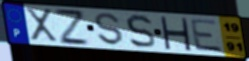E: (189, 18, 226, 54)
H: (158, 15, 193, 52)
S: (124, 14, 157, 50), (94, 12, 126, 47)
X: (23, 7, 60, 43)
Z: (53, 7, 92, 47)
